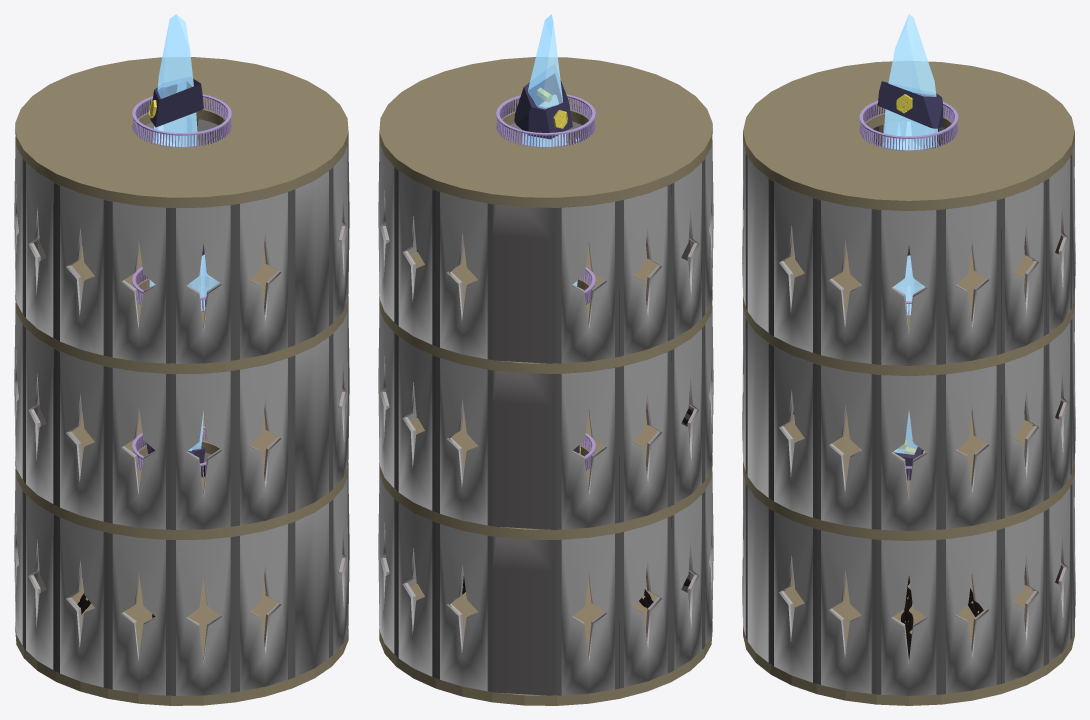
Rendered from Tower_Generic_LowMiddle.fbx.
3 views of the same model, side by side, from view 1: azimuth 30°, elevation 25°; view 2: azimuth 150°, elevation 25°; view 3: azimuth 270°, elevation 25° (orthographic).
Visible parts, largest first — view 1: walls.006, walls.005, walls.004, floorwithhole.005, floor.002, floorwithhole.004, floorwithhole.003, crystal.001, crystalloops.001, rail.005; view 2: walls.006, walls.005, walls.004, floorwithhole.005, floor.002, floorwithhole.003, floorwithhole.004, crystal.001, crystalloops.001, rail.005; view 3: walls.006, walls.005, walls.004, floorwithhole.005, floor.002, floorwithhole.003, floorwithhole.004, crystal.001, crystalloops.001, rail.005.
Part boxes in pixels (<box>): walls.006: <box>14,118,349,363</box>; walls.005: <box>14,285,349,529</box>; walls.004: <box>14,452,349,695</box>; floorwithhole.005: <box>15,57,348,207</box>; floor.002: <box>15,576,348,705</box>; floorwithhole.004: <box>15,410,348,539</box>; floorwithhole.003: <box>15,244,348,373</box>; crystal.001: <box>149,14,219,451</box>; crystalloops.001: <box>146,77,205,477</box>; rail.005: <box>132,94,231,148</box>; walls.006: <box>378,121,713,363</box>; walls.005: <box>378,305,713,529</box>; walls.004: <box>378,471,713,695</box>; floorwithhole.005: <box>379,57,712,207</box>; floor.002: <box>379,578,712,705</box>; floorwithhole.003: <box>379,244,712,373</box>; floorwithhole.004: <box>379,410,712,539</box>; crystal.001: <box>522,14,579,286</box>; crystalloops.001: <box>514,64,579,453</box>; rail.005: <box>496,94,595,148</box>; walls.006: <box>742,122,1075,365</box>; walls.005: <box>742,287,1075,530</box>; walls.004: <box>742,452,1075,695</box>; floorwithhole.005: <box>743,61,1074,210</box>; floor.002: <box>743,577,1074,705</box>; floorwithhole.003: <box>743,247,1074,375</box>; floorwithhole.004: <box>743,412,1074,540</box>; crystal.001: <box>883,14,938,454</box>; crystalloops.001: <box>878,81,943,480</box>; rail.005: <box>859,100,958,151</box>.
Size of the model in its own units: 9049 by 18524 by 9049.
